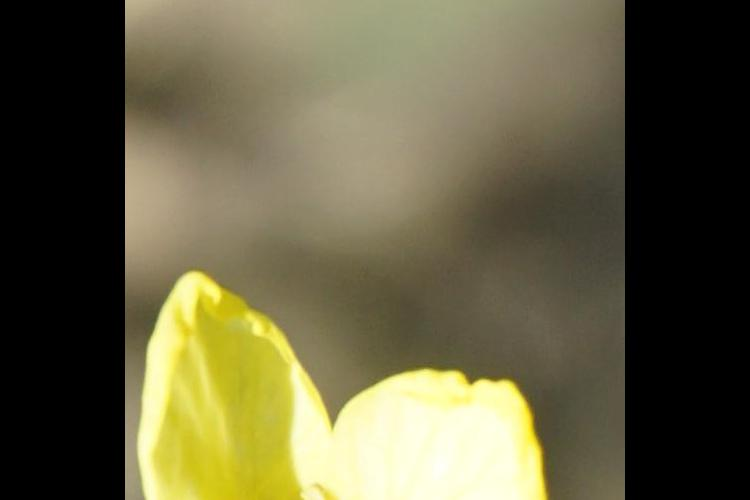yellow: (147, 291, 546, 500)
